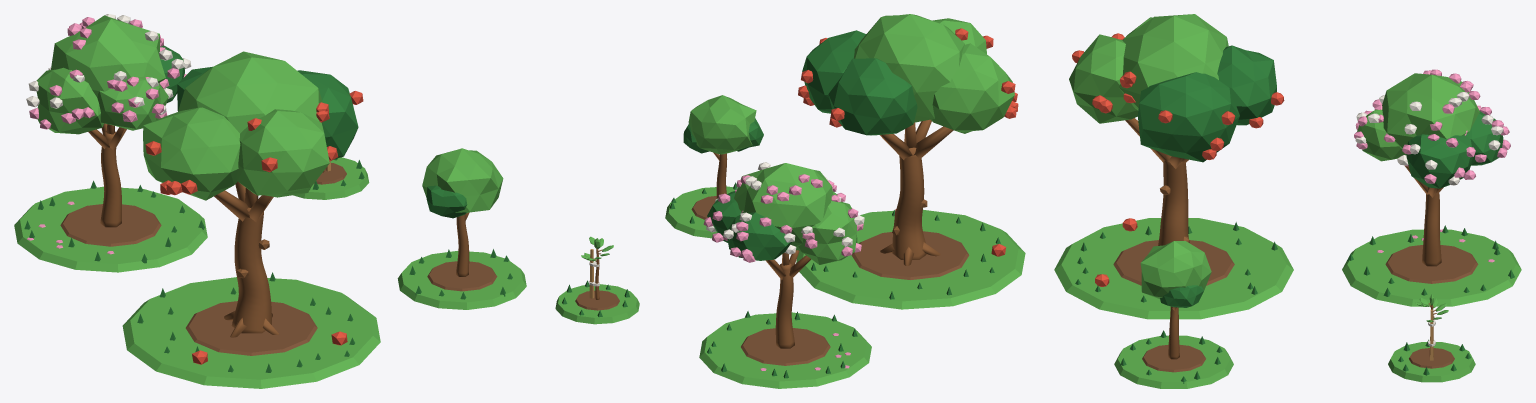
Rendered from apple-tree-growth-stages.glb.
The picture shows the model from 3 angles, left to right: view 1: azimuth 30°, elevation 25°; view 2: azimuth 150°, elevation 25°; view 3: azimuth 270°, elevation 25°; orthographic projection. The views are drawn at different scales.
Parts seen in each view (by area): view 1: AppleTree_Stage4, AppleTree_Stage3, AppleTree_Stage2, AppleTree_Stage1; view 2: AppleTree_Stage4, AppleTree_Stage3, AppleTree_Stage2, AppleTree_Stage1; view 3: AppleTree_Stage4, AppleTree_Stage3, AppleTree_Stage2, AppleTree_Stage1.
Boxes of the visible parts, <box> form: AppleTree_Stage4: <box>122,51,380,388</box>; AppleTree_Stage3: <box>14,14,207,272</box>; AppleTree_Stage2: <box>397,148,526,309</box>; AppleTree_Stage1: <box>293,157,369,199</box>; AppleTree_Stage4: <box>796,14,1025,309</box>; AppleTree_Stage3: <box>699,162,871,388</box>; AppleTree_Stage2: <box>665,95,763,238</box>; AppleTree_Stage1: <box>555,236,639,324</box>; AppleTree_Stage4: <box>1054,14,1293,319</box>; AppleTree_Stage3: <box>1342,69,1521,306</box>; AppleTree_Stage2: <box>1114,241,1233,388</box>; AppleTree_Stage1: <box>1388,294,1475,382</box>.
Bounding box in the file's own units: 19.98 × 14.02 × 23.4.
